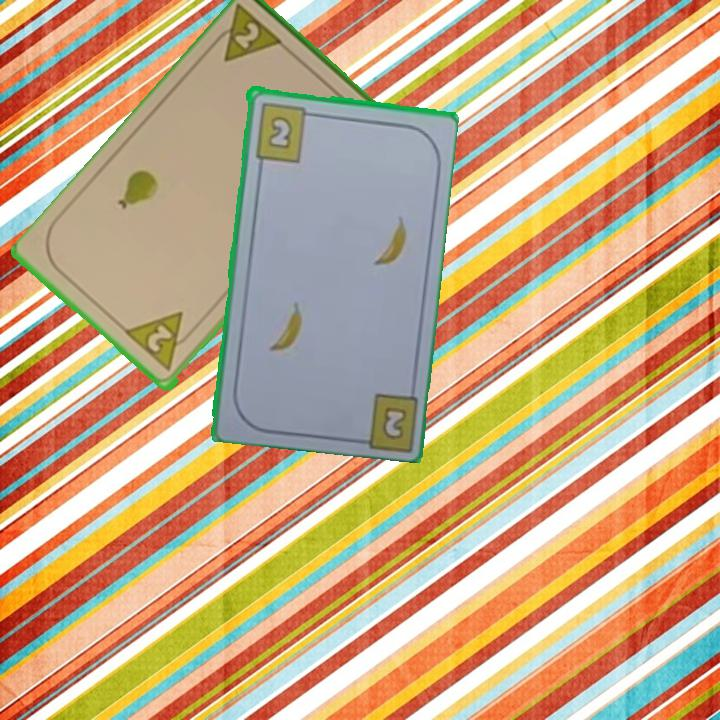2b: (251, 99, 318, 164), (380, 406, 406, 439)
2p: (123, 308, 199, 376), (230, 18, 263, 53)
